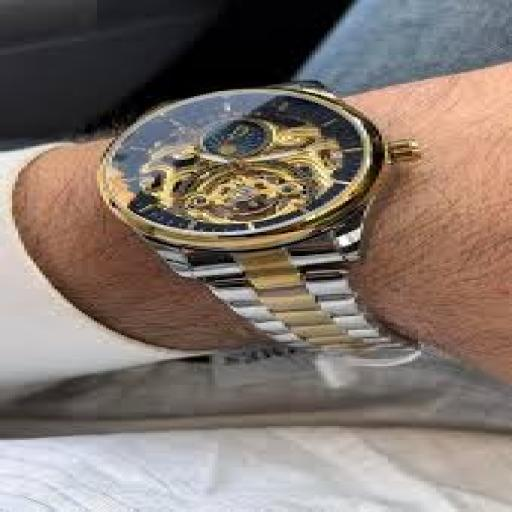KolSaati: (32, 46, 448, 376)
